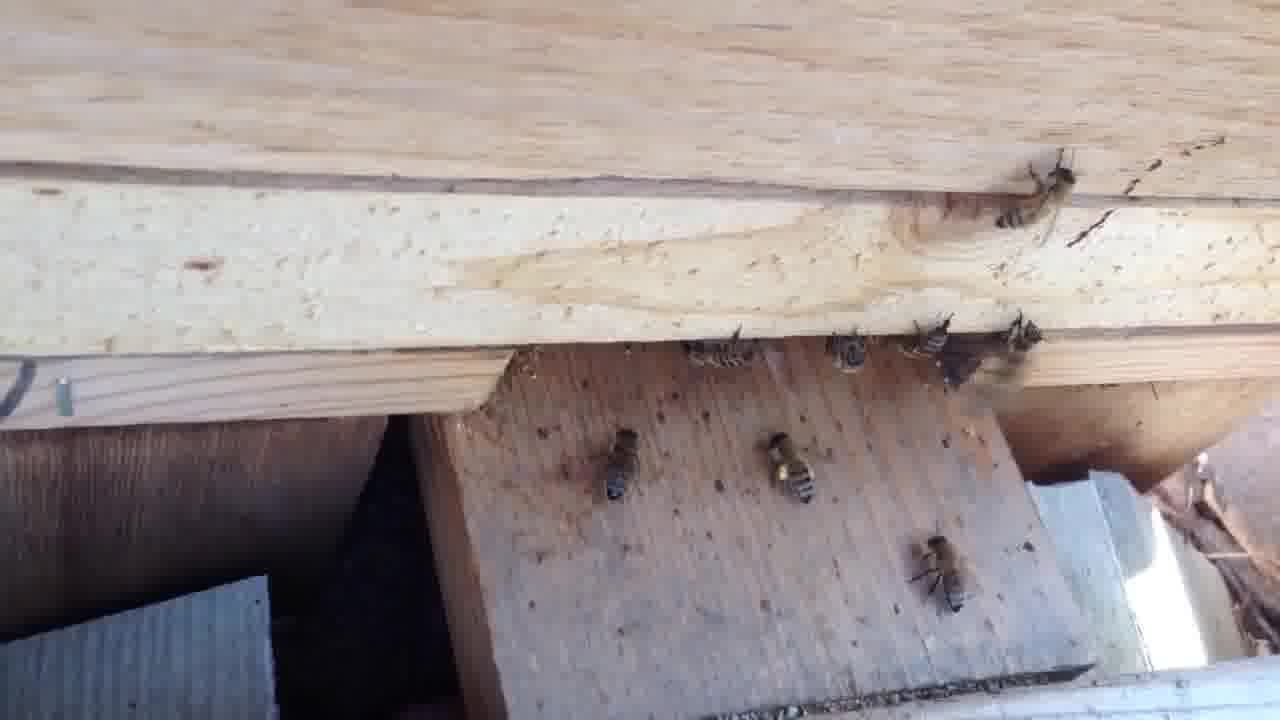pollen: (759, 431, 822, 509)
